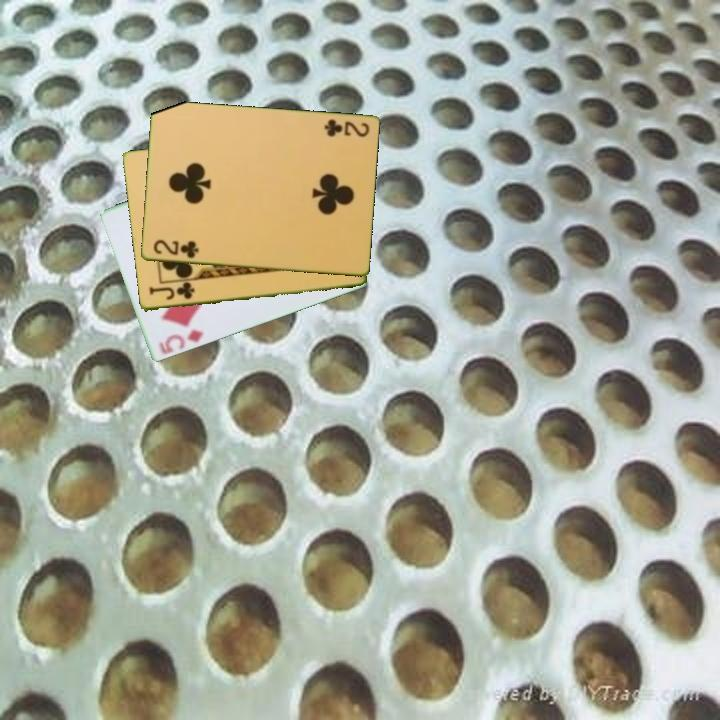2c: (150, 236, 201, 262), (320, 116, 372, 140)
5d: (155, 326, 207, 358)
Jc: (145, 280, 197, 303)
